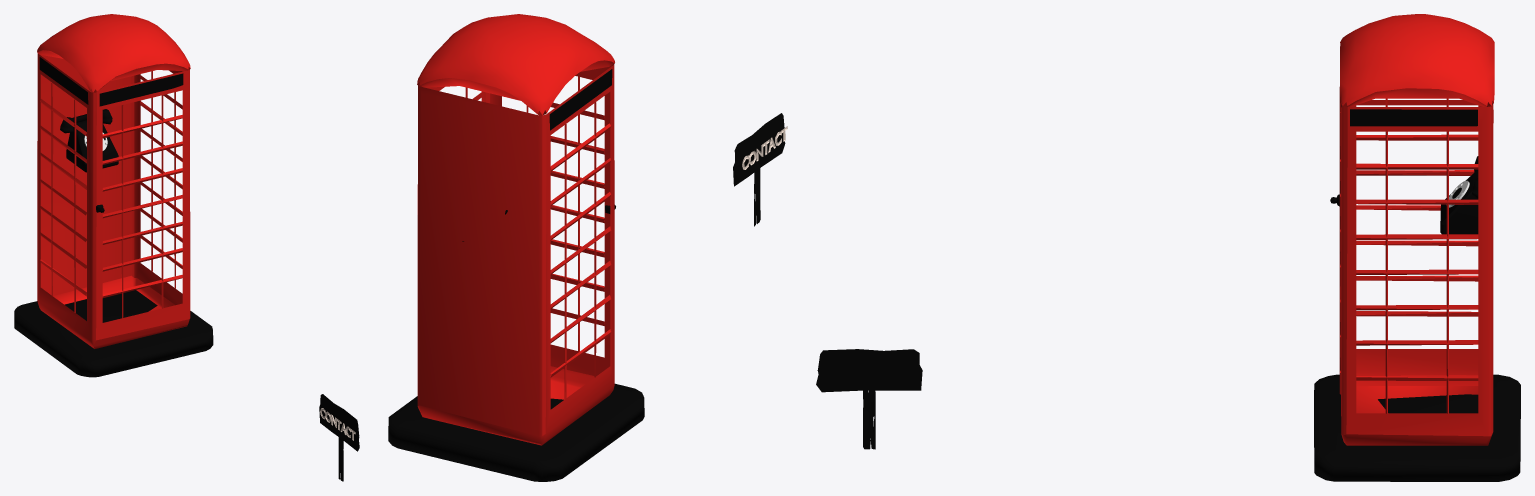
The model's file is phonebooth.fbx.
3 renders of one model, left to right at view 1: azimuth 30°, elevation 25°; view 2: azimuth 150°, elevation 25°; view 3: azimuth 270°, elevation 25°, orthographic. The views are drawn at different scales.
Parts seen in each view (by area): view 1: Body.001, Base.001, Bars, Top.001, Contact, Text, Cube.035, Text.002, Circle.019; view 2: Body.001, Top.001, Base.001, Bars, Contact, Text.002; view 3: Body.001, Base.001, Top.001, Bars, Contact, Text.001, Cube.035.
Part boxes in pixels (bbox=[...]): Body.001: bbox=[37, 53, 190, 348]; Base.001: bbox=[14, 290, 213, 377]; Bars: bbox=[40, 71, 182, 318]; Top.001: bbox=[37, 14, 190, 92]; Contact: bbox=[319, 394, 359, 481]; Text: bbox=[99, 73, 183, 106]; Cube.035: bbox=[66, 120, 118, 172]; Text.002: bbox=[39, 57, 88, 104]; Circle.019: bbox=[60, 109, 112, 133]; Body.001: bbox=[417, 64, 614, 445]; Top.001: bbox=[417, 14, 614, 115]; Base.001: bbox=[388, 383, 644, 481]; Bars: bbox=[465, 76, 611, 399]; Contact: bbox=[733, 113, 787, 226]; Text.002: bbox=[549, 69, 612, 130]; Body.001: bbox=[1341, 104, 1493, 445]; Base.001: bbox=[1314, 374, 1520, 481]; Top.001: bbox=[1340, 14, 1494, 106]; Bars: bbox=[1339, 87, 1478, 413]; Contact: bbox=[816, 349, 922, 449]; Text.001: bbox=[1350, 109, 1477, 126]; Cube.035: bbox=[1440, 170, 1478, 234].
Size of the model in its own units: 4.6 by 10.15 by 15.7.
